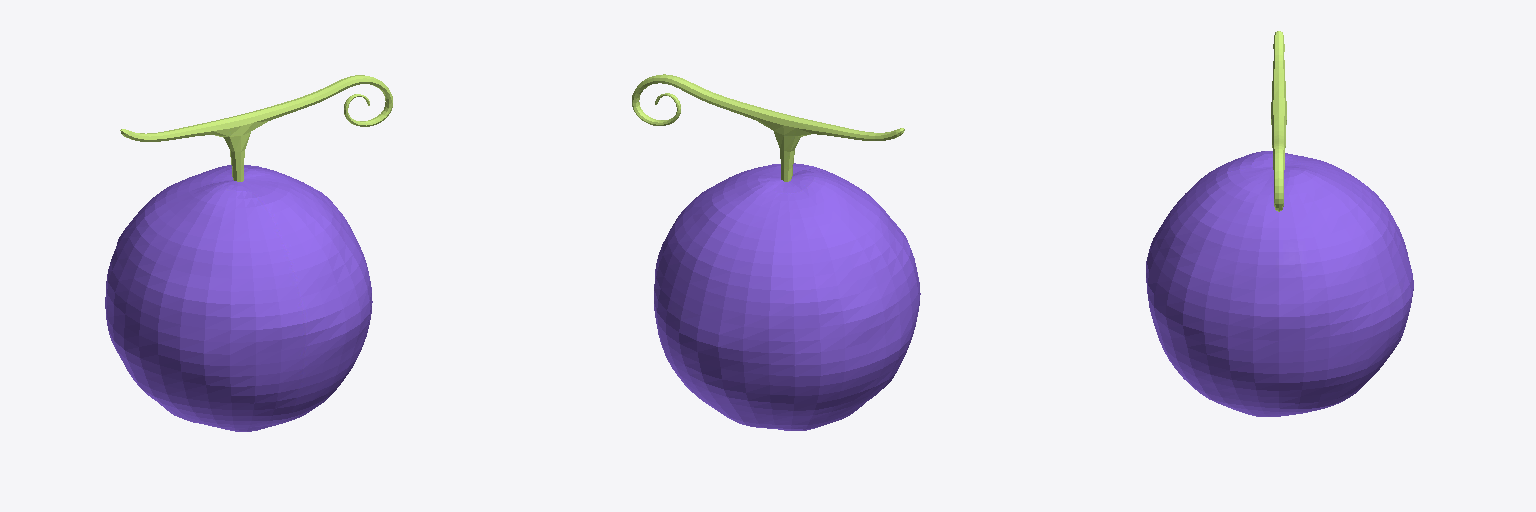
3 views of the same model, side by side, from view 1: azimuth 30°, elevation 25°; view 2: azimuth 150°, elevation 25°; view 3: azimuth 270°, elevation 25° (orthographic).
Visible parts, largest first — view 1: Gomu_Gomu_From_ZBrush:pCube2; view 2: Gomu_Gomu_From_ZBrush:pCube2; view 3: Gomu_Gomu_From_ZBrush:pCube2.
Boxes of the visible parts, x1,y1,x2,y2 form: Gomu_Gomu_From_ZBrush:pCube2: [105, 75, 392, 431]; Gomu_Gomu_From_ZBrush:pCube2: [632, 74, 920, 430]; Gomu_Gomu_From_ZBrush:pCube2: [1146, 31, 1413, 416].
Bounding box in the file's own units: 2.26 × 2.55 × 1.94.
1 materials, 1 textured.